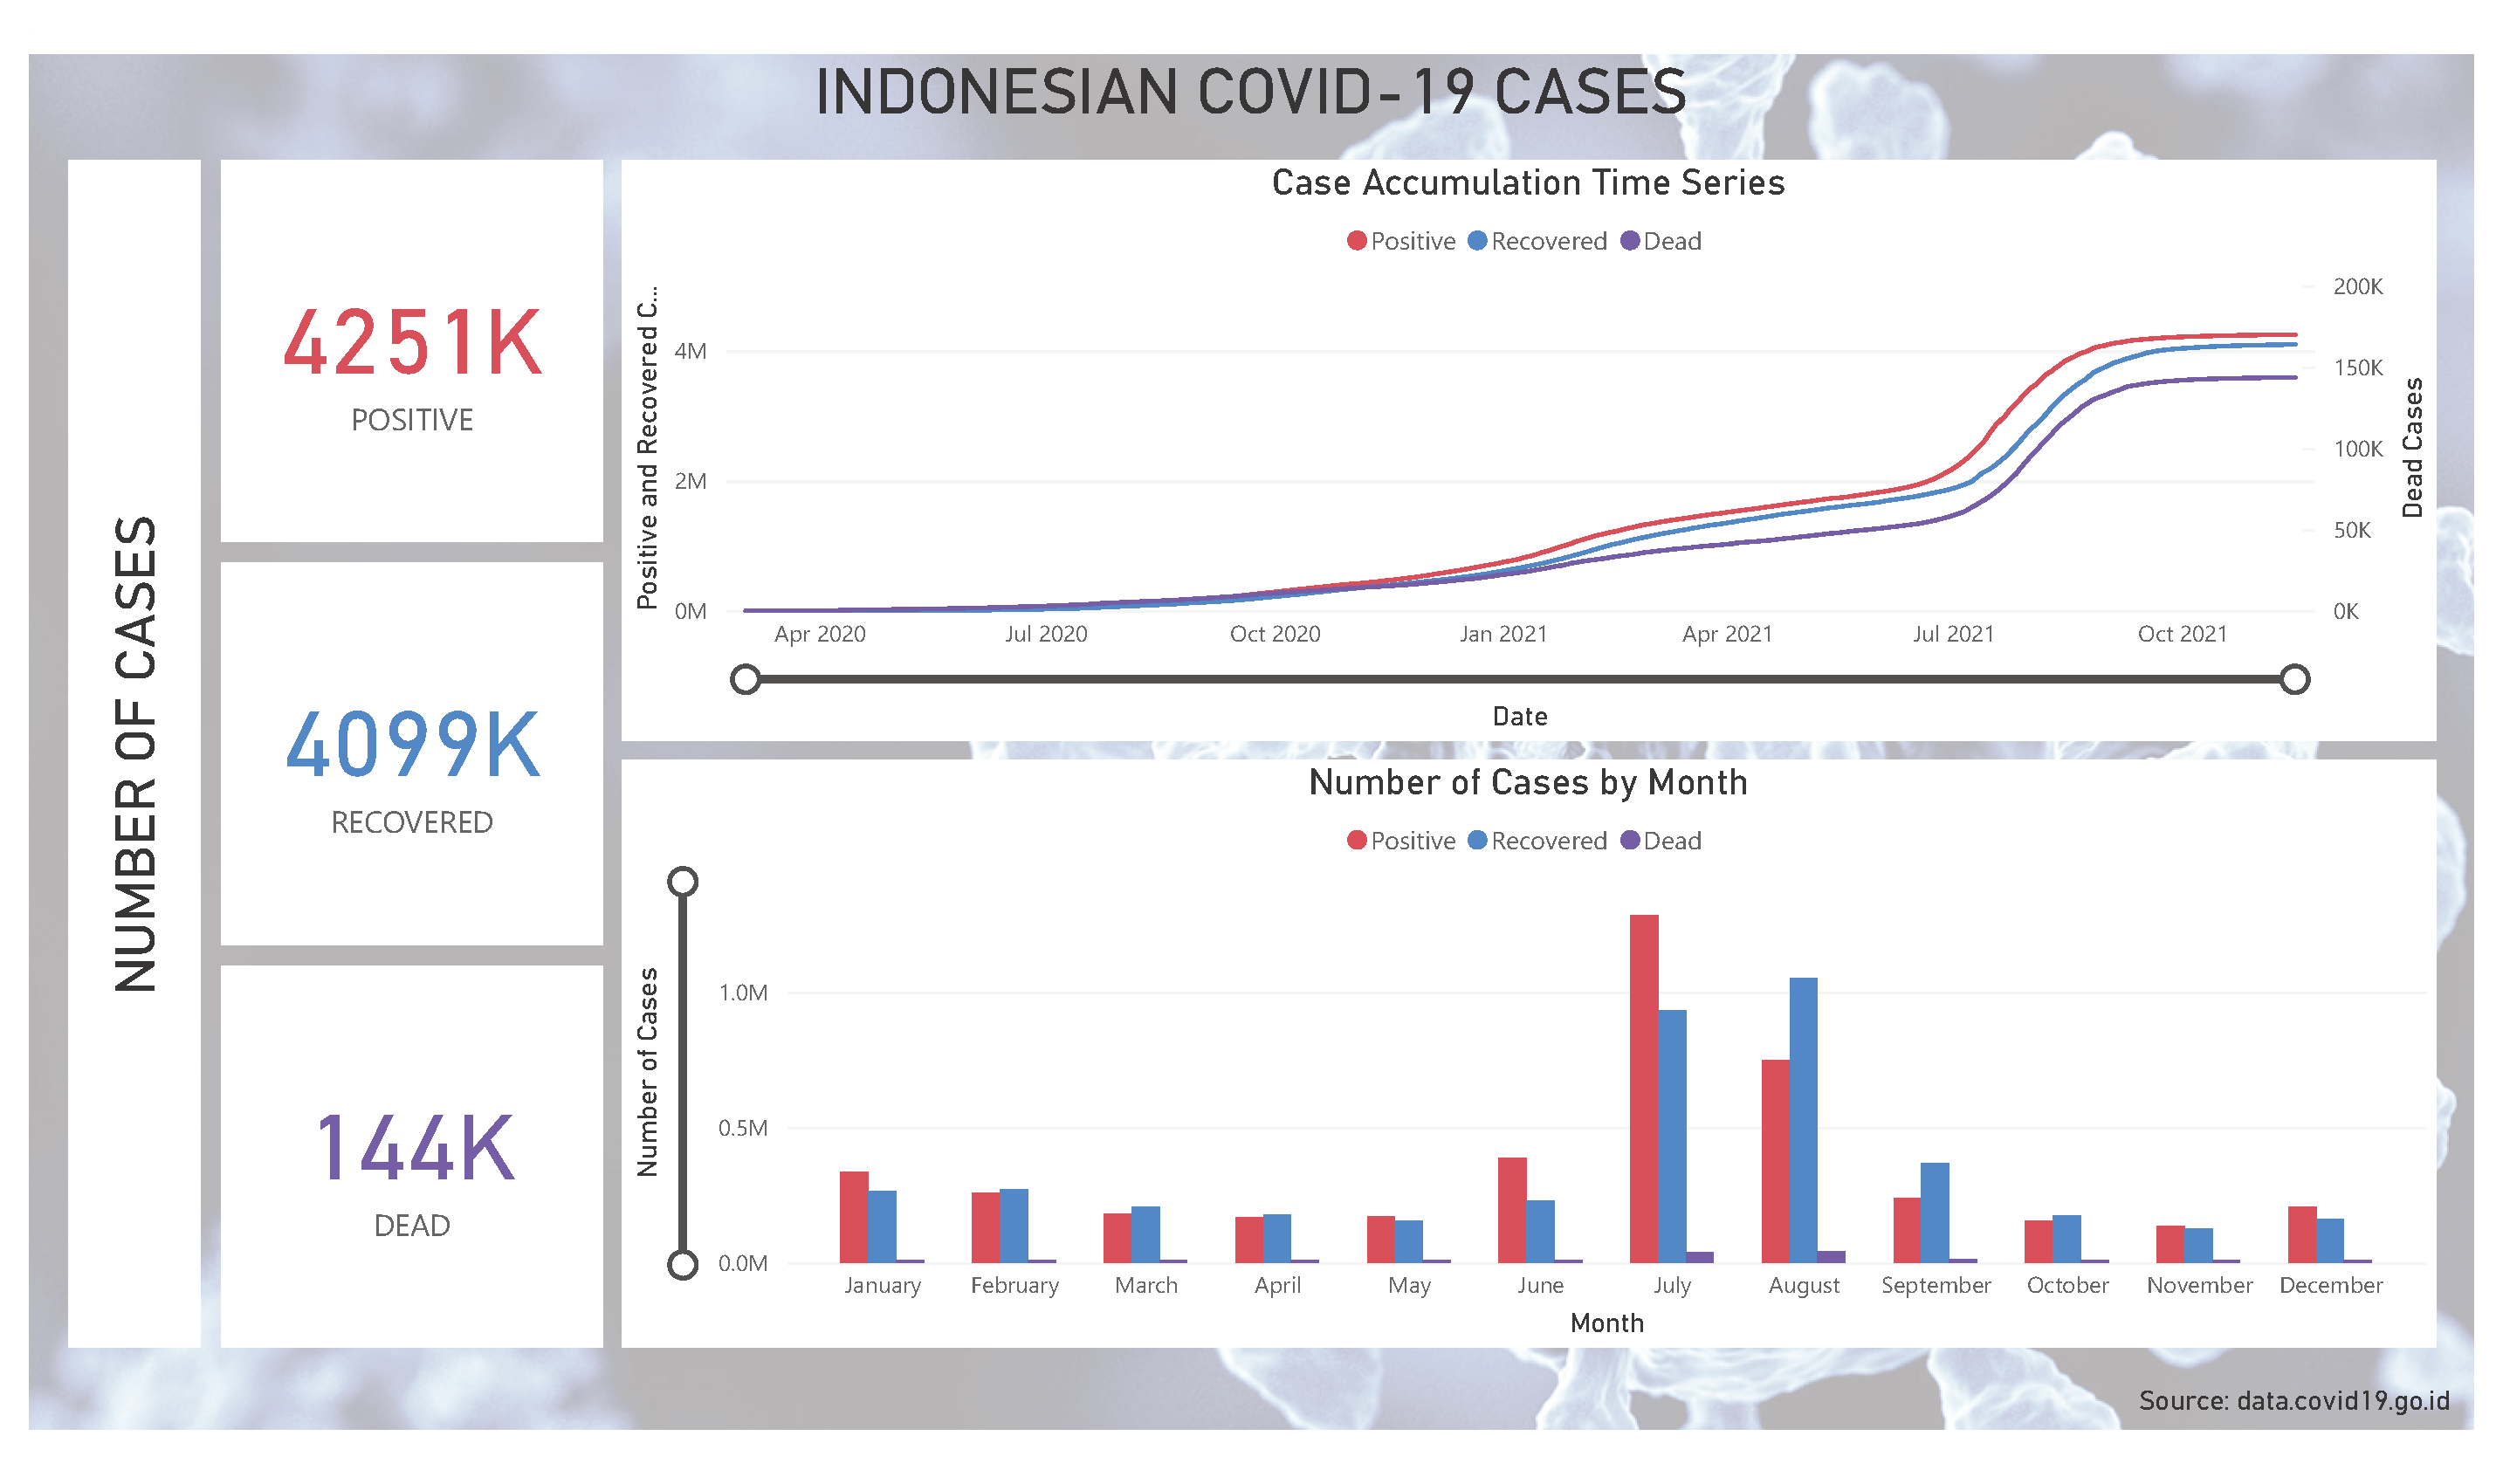

What the dashboard file says about the page in this screenshot:
{"tool":"powerbi","page":{"name":"Page 1","canvas":[1280,720],"ordinal":0},"visuals":[{"type":"card","fields":{"Values":["Sum(indonesian_covid19_daily_20211115_211927.jumlah_positif)"]},"box":[100.1,55.5,200.3,200.3],"z":0},{"type":"card","fields":{"Values":["Sum(indonesian_covid19_daily_20211115_211927.jumlah_sembuh)"]},"box":[100.1,266,200.3,200.3],"z":1000},{"type":"card","fields":{"Values":["Sum(indonesian_covid19_daily_20211115_211927.jumlah_meninggal)"]},"box":[100.1,477,200.3,200.3],"z":2000},{"type":"clusteredColumnChart","title":"Number of Cases by Month","fields":{"Category":["indonesian_covid19_daily_20211115_211927.tanggal.Variation.Date Hierarchy.Month"],"Y":["Sum(indonesian_covid19_daily_20211115_211927.jumlah_positif)","Sum(indonesian_covid19_daily_20211115_211927.jumlah_sembuh)","Sum(indonesian_covid19_daily_20211115_211927.jumlah_meninggal)"]},"box":[309.9,369.4,949.9,308.5],"z":3000},{"type":"lineChart","title":"Case Accumulation Time Series","fields":{"Y":["Sum(indonesian_covid19_daily_20211115_211927.jumlah_positif_kum)","Sum(indonesian_covid19_daily_20211115_211927.jumlah_sembuh_kum)"],"Category":["indonesian_covid19_daily_20211115_211927.tanggal"],"Y2":["Sum(indonesian_covid19_daily_20211115_211927.jumlah_meninggal_kum)"]},"box":[309.9,55.5,949.9,304.4],"z":4000},{"type":"shape","box":[21,55.5,69,622.4],"z":5000},{"type":"shape","box":[0,0,1280,50.1],"z":6000},{"type":"shape","box":[1080.6,690.6,199.9,29.4],"z":7001}]}

Visuals, with their boxes on the page's 1280x720 design canvas (x1, y1, x2, y2). These are canvas units, not pixel positions in the 2503x1484 screenshot, which may show the page scaled, cropped or inside an application window:
card - Sum(indonesian_covid19_daily_20211115_211927.jumlah_positif): x1=100, y1=56, x2=300, y2=256
card - Sum(indonesian_covid19_daily_20211115_211927.jumlah_sembuh): x1=100, y1=266, x2=300, y2=466
card - Sum(indonesian_covid19_daily_20211115_211927.jumlah_meninggal): x1=100, y1=477, x2=300, y2=677
"Number of Cases by Month" clusteredColumnChart: x1=310, y1=369, x2=1260, y2=678
"Case Accumulation Time Series" lineChart: x1=310, y1=56, x2=1260, y2=360
shape: x1=21, y1=56, x2=90, y2=678
shape: x1=0, y1=0, x2=1280, y2=50
shape: x1=1081, y1=691, x2=1280, y2=720
